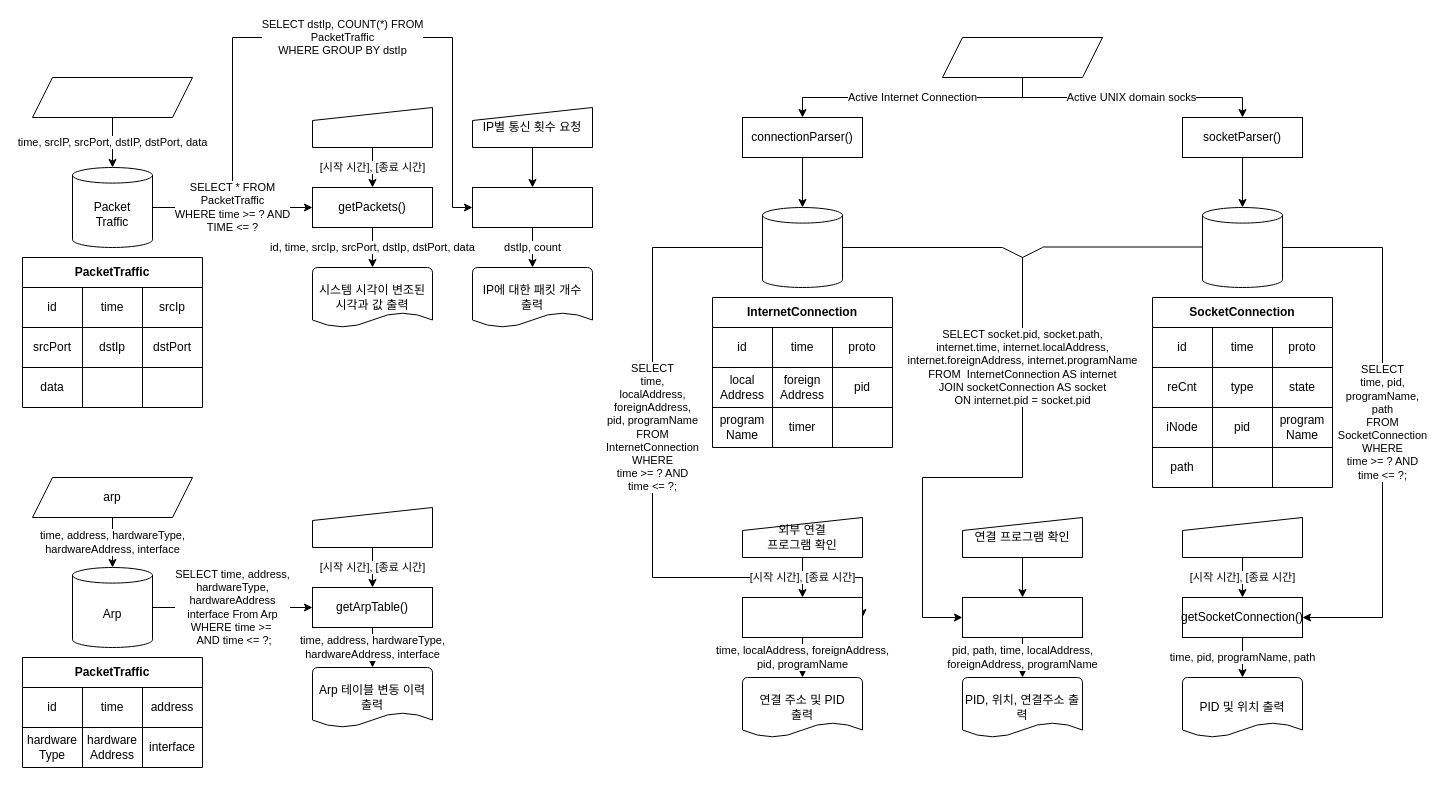
This 1444x785 diagram has some shape labels left out. The shapes that lost their labels are listed below. From the top down, each one's centre as x and y in pixels, then its label:
At point (1022, 57): "netstat -naop".
At point (112, 97): "suricata".
At point (372, 127): "특정 시간대의 패킷 요청".
At point (532, 207): "getConnectionCount()".
At point (802, 247): "Internet Connection".
At point (1242, 247): "Socket Connection".
At point (372, 527): "ARP 테이블 확인".
At point (1242, 537): "소켓 연결 프로그램 확인".
At point (802, 617): "getInternetConnection()".
At point (1022, 617): "getConnection()".
